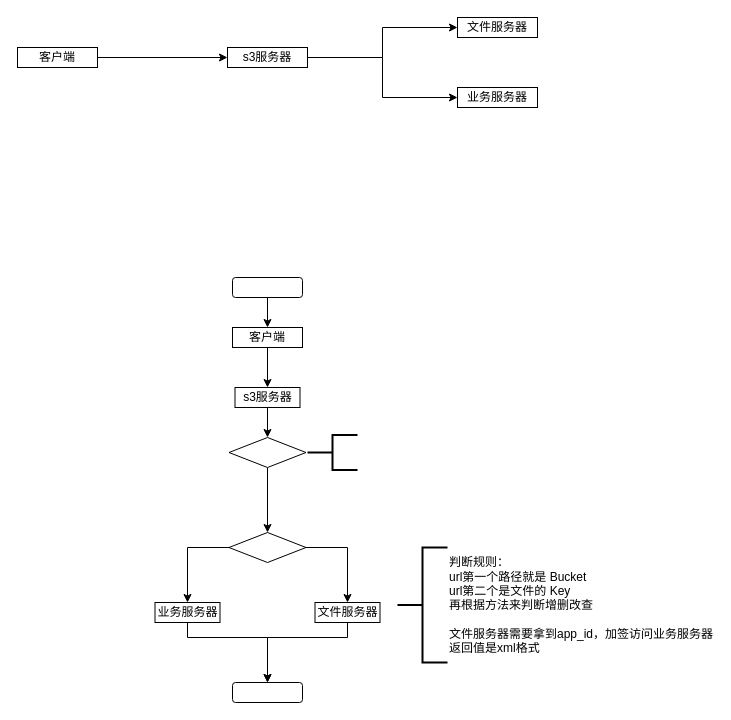
This 731x720 diagram has some shape labels left out. Each missing label, with the centre of its shape:
"亚马逊验签规则4" goes at (332,452).
"判断请求" goes at (267,547).
"开始" goes at (267,287).
"结束" goes at (267,692).
"验证签名" goes at (267,452).
